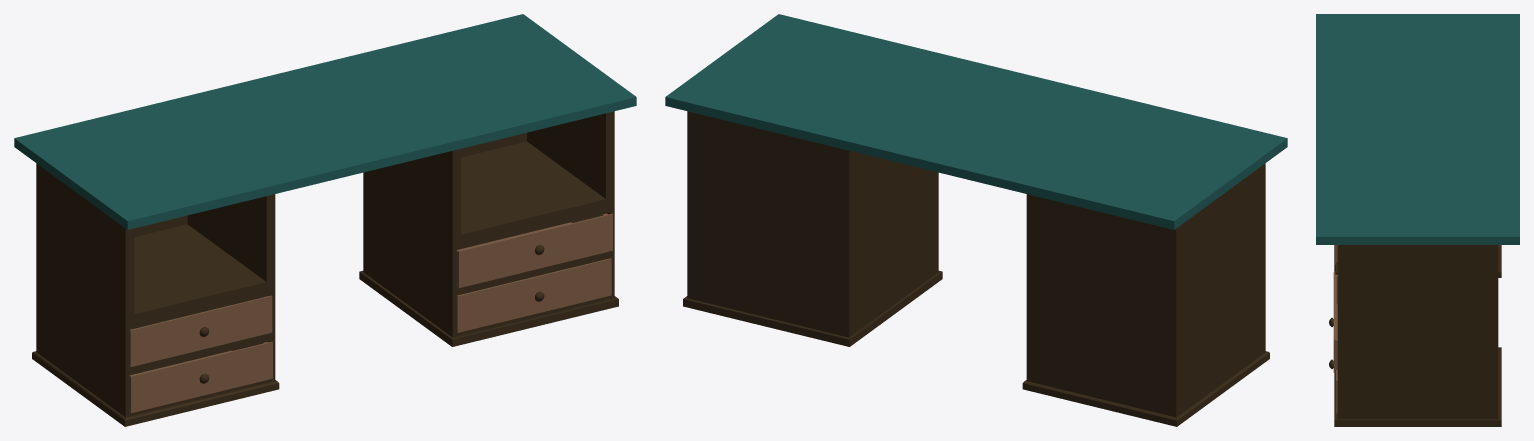
The model's file is Escritorio.fbx.
3 views of the same model, side by side, from view 1: azimuth 30°, elevation 25°; view 2: azimuth 150°, elevation 25°; view 3: azimuth 270°, elevation 25° (orthographic). The views are drawn at different scales.
Visible parts, largest first — view 1: Escritorio; view 2: Escritorio; view 3: Escritorio.
Part boxes in pixels (x1,y1,x2,y2): Escritorio: [14, 14, 636, 426]; Escritorio: [665, 14, 1287, 426]; Escritorio: [1316, 14, 1519, 426].
Bounding box in the file's own units: 159 × 64.26 × 61.45.
